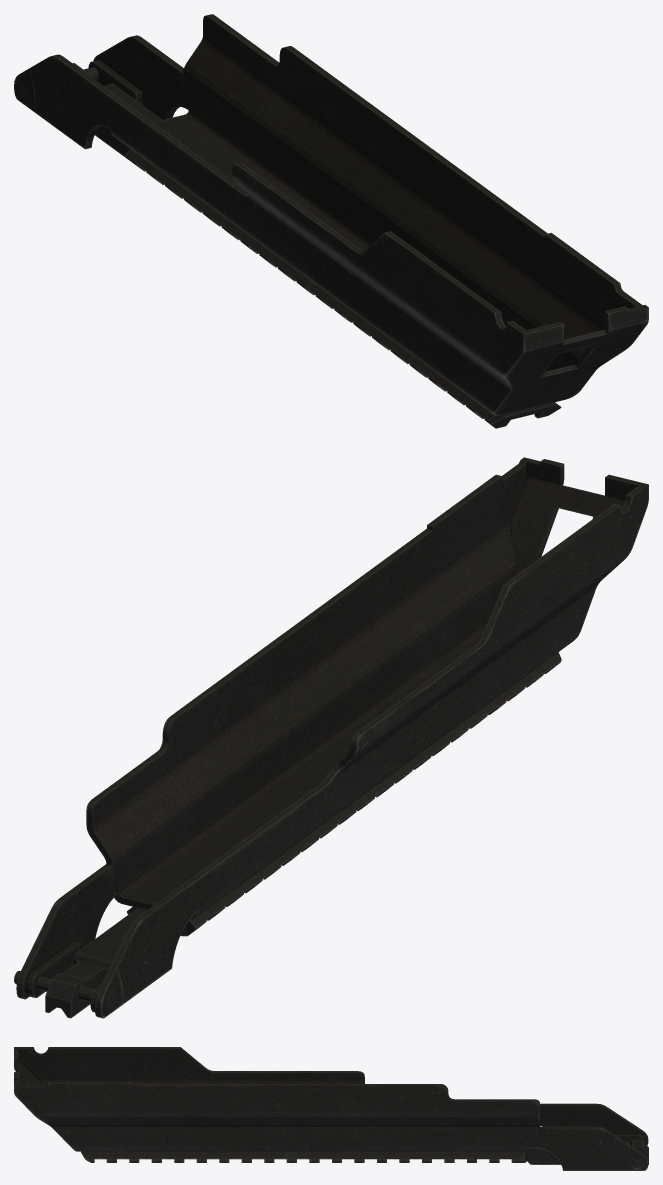
3 renders of one model, top to bottom at view 1: azimuth 30°, elevation 25°; view 2: azimuth 150°, elevation 25°; view 3: azimuth 270°, elevation 25°, orthographic. The views are drawn at different scales.
Parts seen in each view (by area): view 1: TW_5d2c76ed48f03532f2136169_PZ_Import; view 2: TW_5d2c76ed48f03532f2136169_PZ_Import; view 3: TW_5d2c76ed48f03532f2136169_PZ_Import.
Part boxes in pixels (x1,y1,x2,y2): TW_5d2c76ed48f03532f2136169_PZ_Import: (14, 14, 648, 428); TW_5d2c76ed48f03532f2136169_PZ_Import: (14, 457, 648, 1018); TW_5d2c76ed48f03532f2136169_PZ_Import: (14, 1047, 648, 1170).
Size of the model in its own units: 0.0223 by 0.1636 by 0.0273.
Materials: 1 (1 with a texture image).
